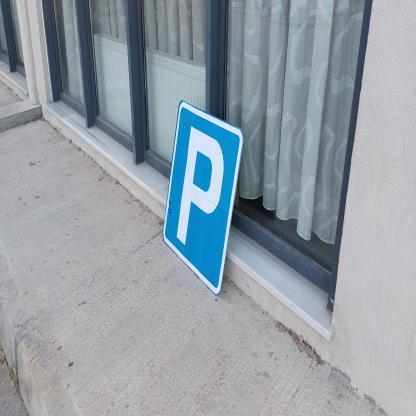parking: (162, 100, 243, 296)
